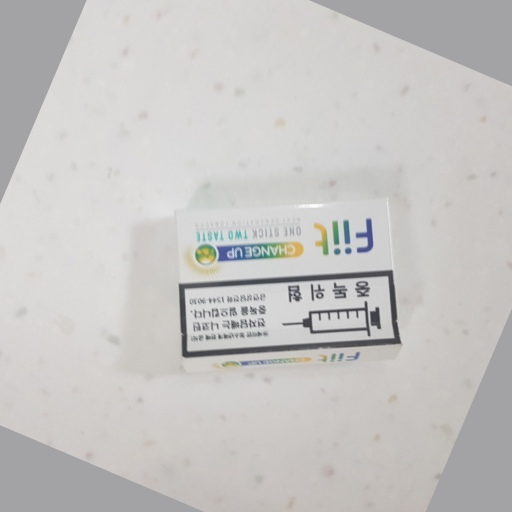Paper_0: (167, 192, 414, 377)
